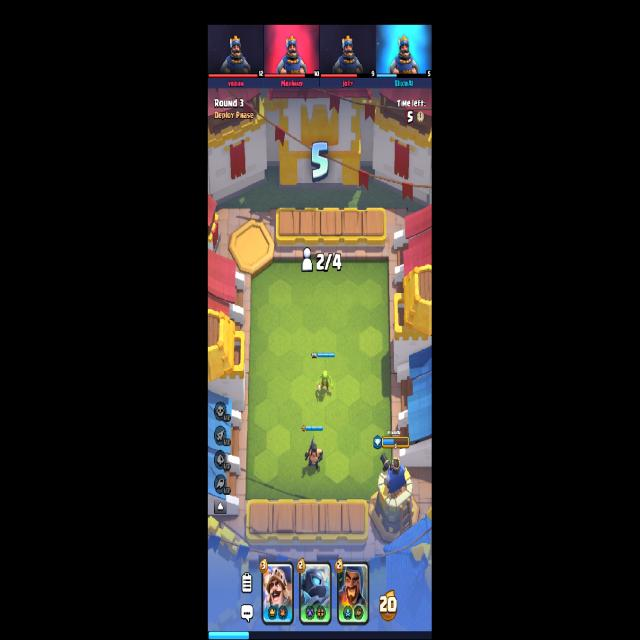card_mini_pekka: (298, 561, 332, 625)
card_prince: (260, 562, 294, 624)
card_wizard: (337, 562, 370, 623)
executioner: (304, 436, 324, 473)
goblin: (317, 369, 333, 396)
